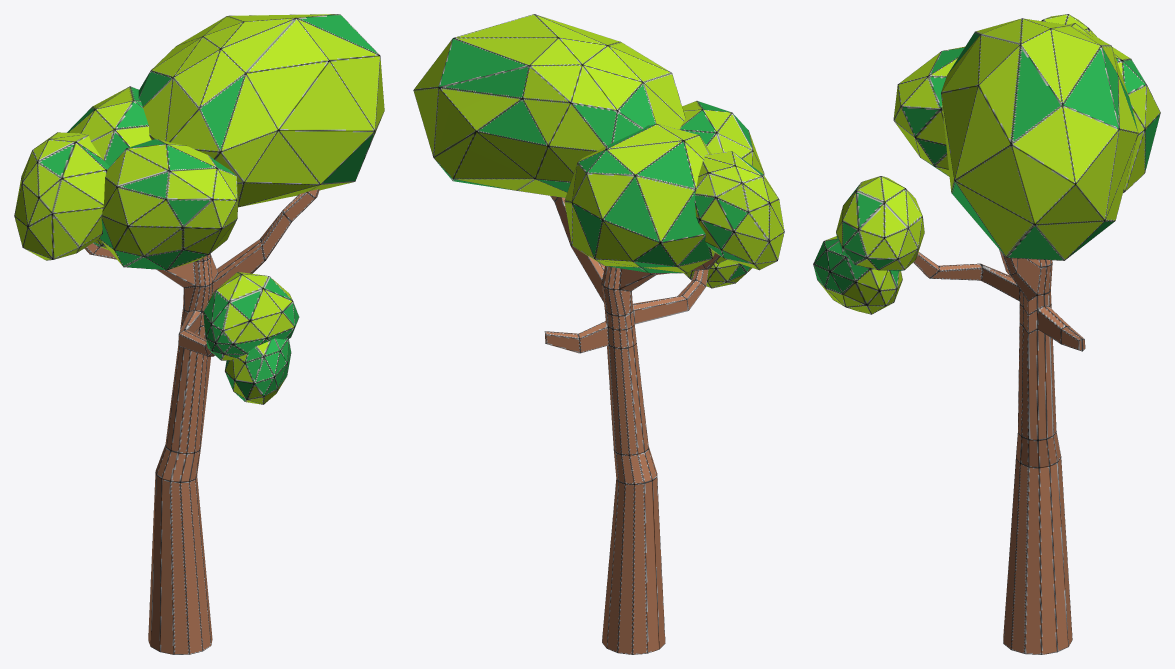
File: tree1.obj
The picture shows the model from 3 angles, left to right: view 1: azimuth 30°, elevation 25°; view 2: azimuth 150°, elevation 25°; view 3: azimuth 270°, elevation 25°; orthographic projection. The views are drawn at different scales.
Parts seen in each view (by area): view 1: Tree_1_Cylinder.002; view 2: Tree_1_Cylinder.002; view 3: Tree_1_Cylinder.002.
Part boxes in pixels (bbox=[...]): Tree_1_Cylinder.002: bbox=[14, 14, 384, 654]; Tree_1_Cylinder.002: bbox=[413, 14, 784, 654]; Tree_1_Cylinder.002: bbox=[813, 14, 1160, 654].
Bounding box in the file's own units: 4.44 × 7.14 × 3.44.
Materials: 1 (1 with a texture image).
